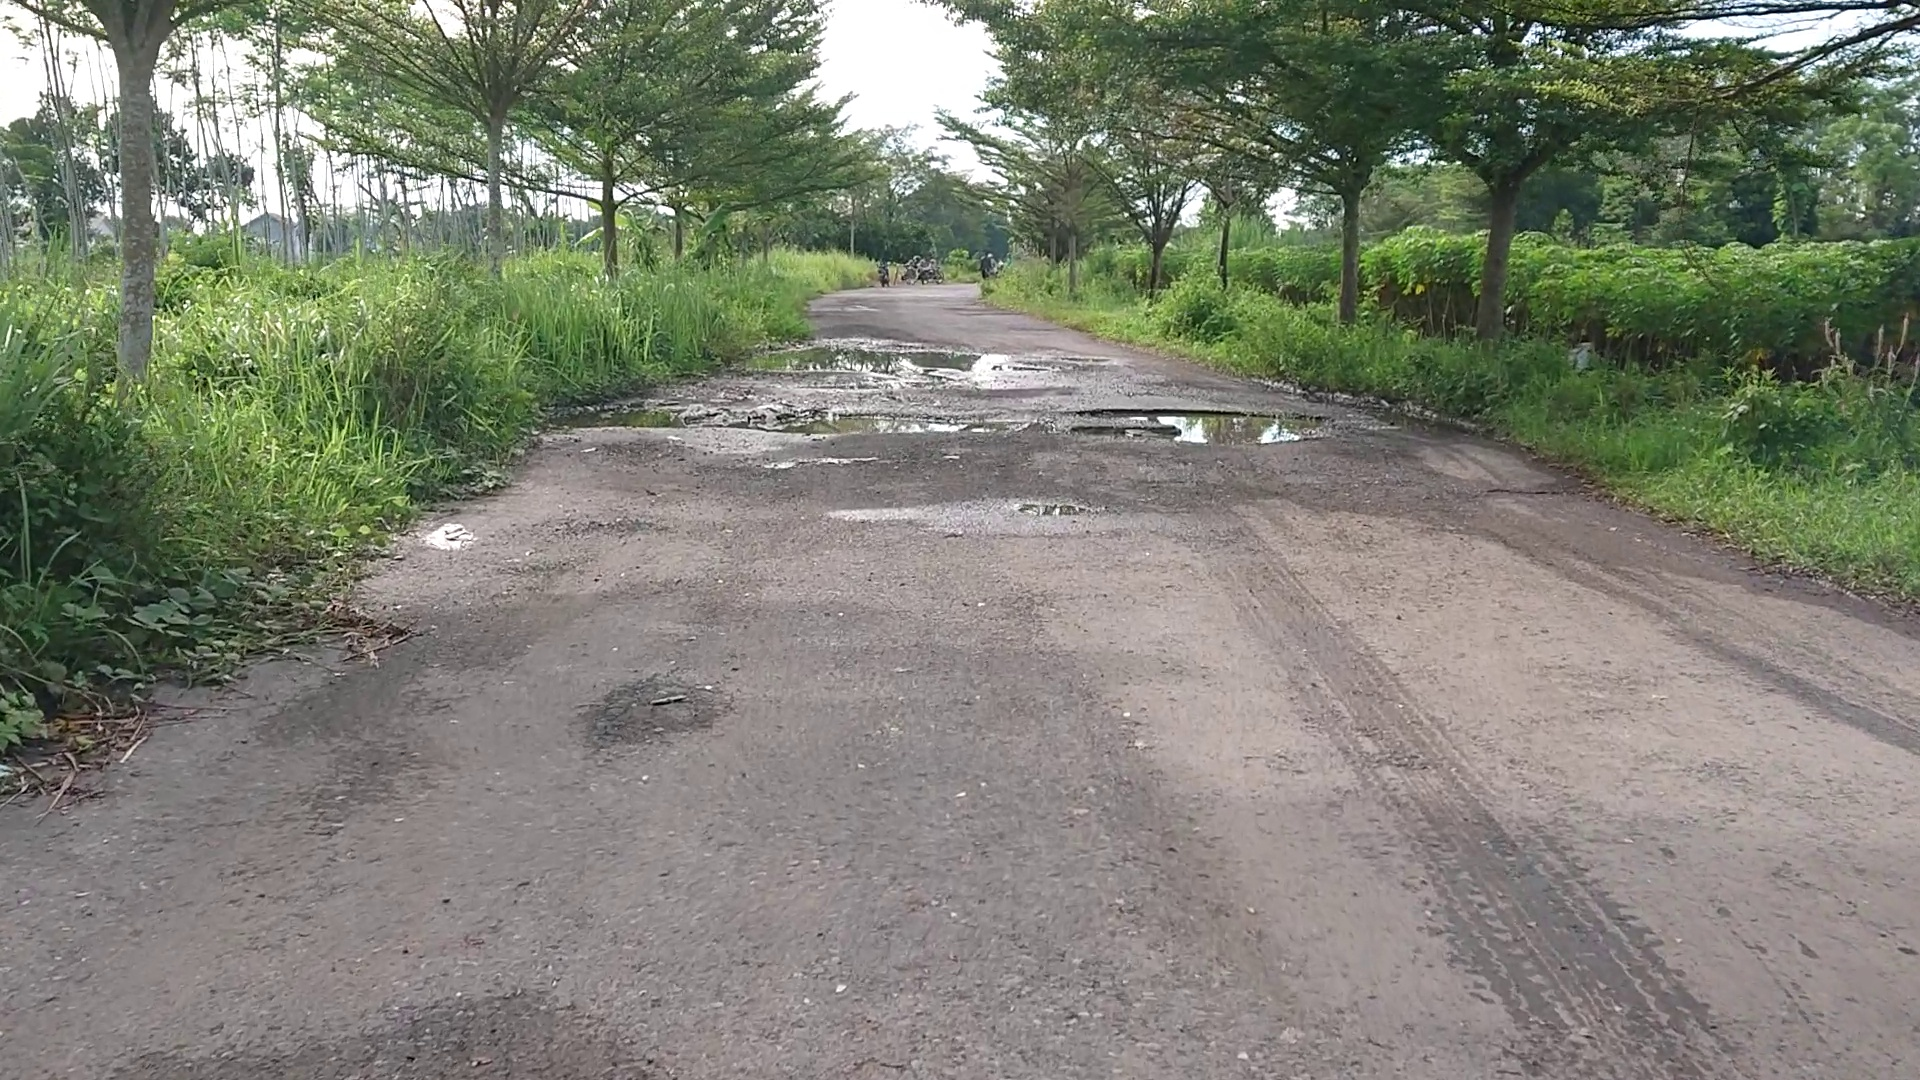Berlubang: (767, 343, 1042, 394), (1072, 409, 1331, 448), (774, 401, 1040, 439), (572, 402, 745, 433)
